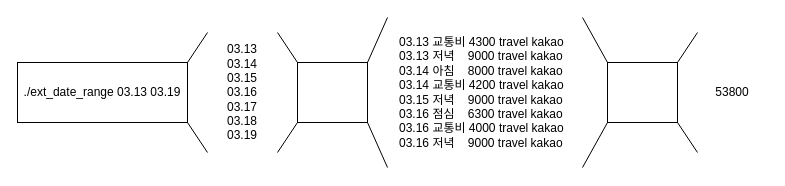
Some shapes in this 785 by 186 pixel diagram are drawn without their labels. Here are the shapes that lost their labels. From the top down, the centre of each, then its label:
At (332,92): "./ext_pay".
At (642,92): "./comp_sum".
